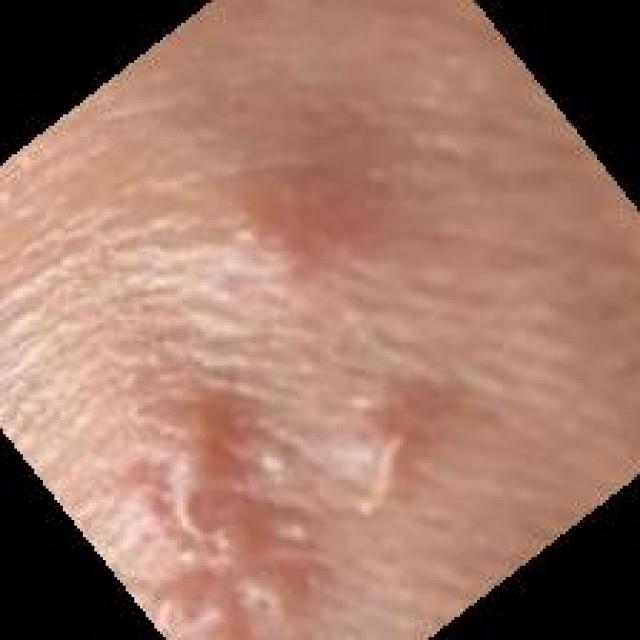monkeypox: (63, 137, 440, 640)
